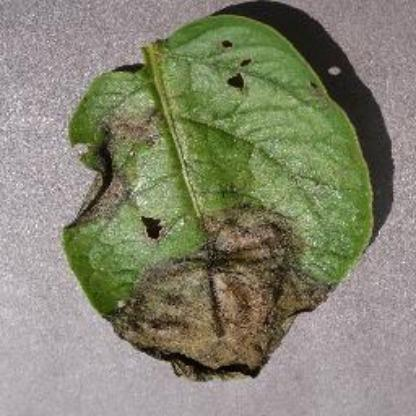Late-Blight: (56, 12, 378, 382)
